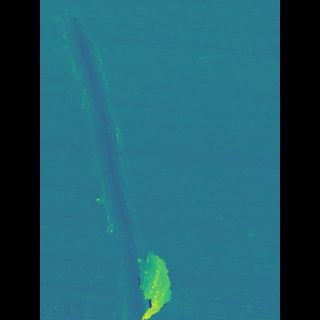Loch: (82, 2, 172, 320), (140, 243, 171, 320)
